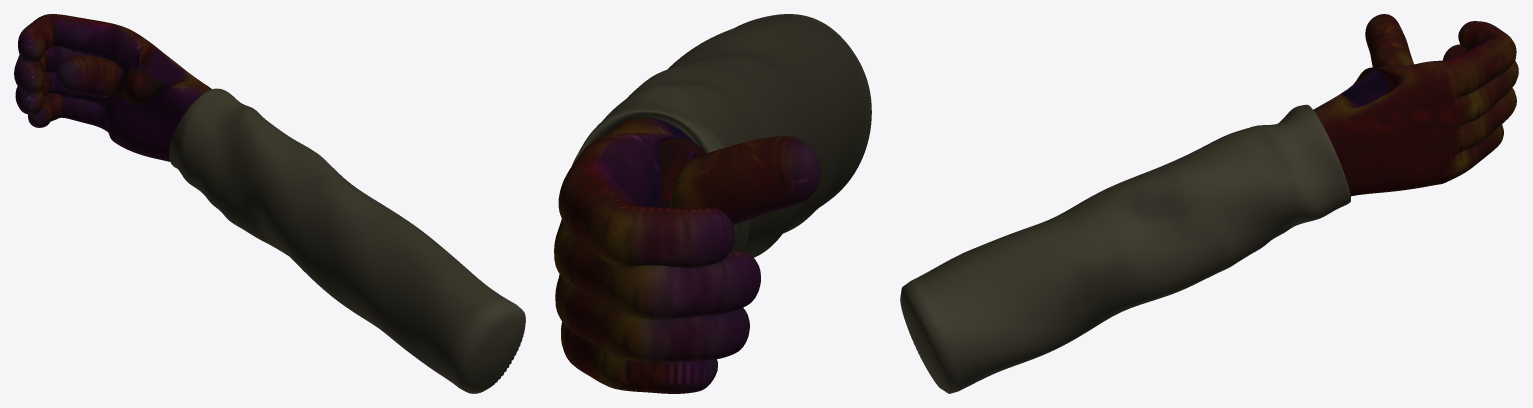
The model's file is fp_hand_R_camera.glb.
3 views of the same model, side by side, from view 1: azimuth 30°, elevation 25°; view 2: azimuth 150°, elevation 25°; view 3: azimuth 270°, elevation 25° (orthographic). The views are drawn at different scales.
Parts seen in each view (by area): view 1: fp_hand_R_camera; view 2: fp_hand_R_camera; view 3: fp_hand_R_camera.
Part boxes in pixels (left/top/right/bottom): fp_hand_R_camera: left=14, top=14, right=525, bottom=393; fp_hand_R_camera: left=554, top=14, right=871, bottom=393; fp_hand_R_camera: left=900, top=14, right=1518, bottom=393.
Bounding box in the file's own units: 0.2241 × 0.191 × 0.408.
2 materials, 1 textured.
